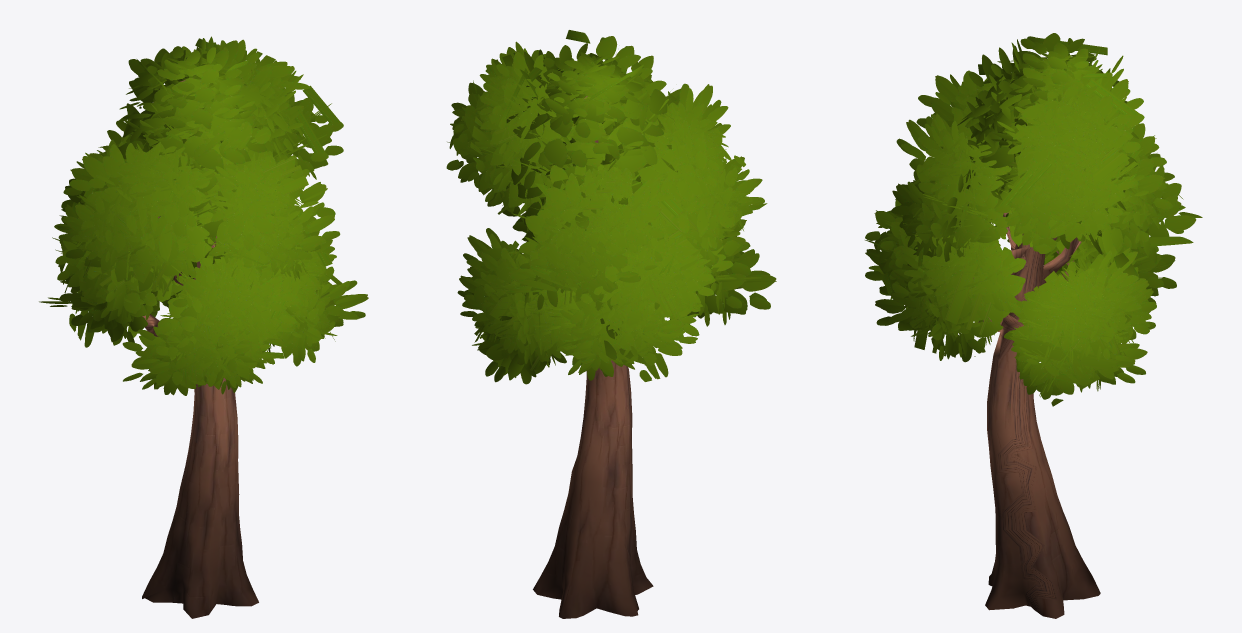
The model's file is tree1.glb.
3 renders of one model, left to right at view 1: azimuth 30°, elevation 25°; view 2: azimuth 150°, elevation 25°; view 3: azimuth 270°, elevation 25°, orthographic. The views are drawn at different scales.
Parts seen in each view (by area): view 1: CommonTree_1; view 2: CommonTree_1; view 3: CommonTree_1.
Part boxes in pixels (left/top/right/bottom): CommonTree_1: left=39, top=36, right=368, bottom=618; CommonTree_1: left=446, top=30, right=776, bottom=618; CommonTree_1: left=865, top=33, right=1202, bottom=618.
Size of the model in its own units: 4.31 by 7.26 by 4.58.
Materials: 2 (2 with a texture image).
